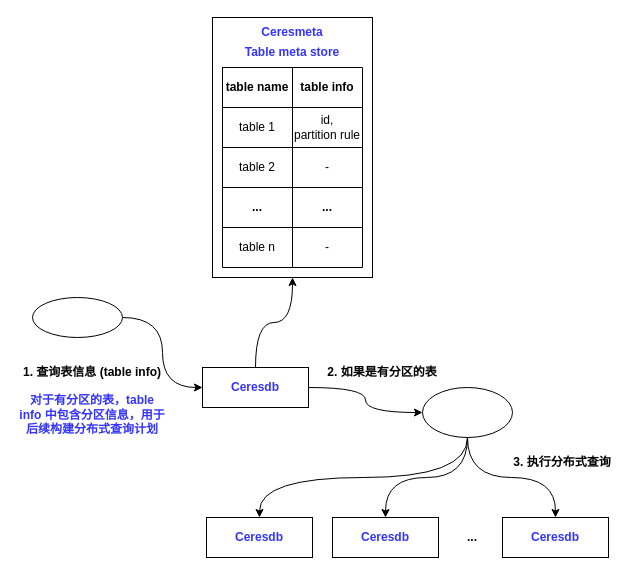
The diagram is 629 pixels wide and 575 high, and some of its shapes have lost their labels. Here are the shapes that lost their labels. From the top down, the centre of each, then its label:
At point (77, 317): "query".
At point (467, 412): "distributed query plan".
